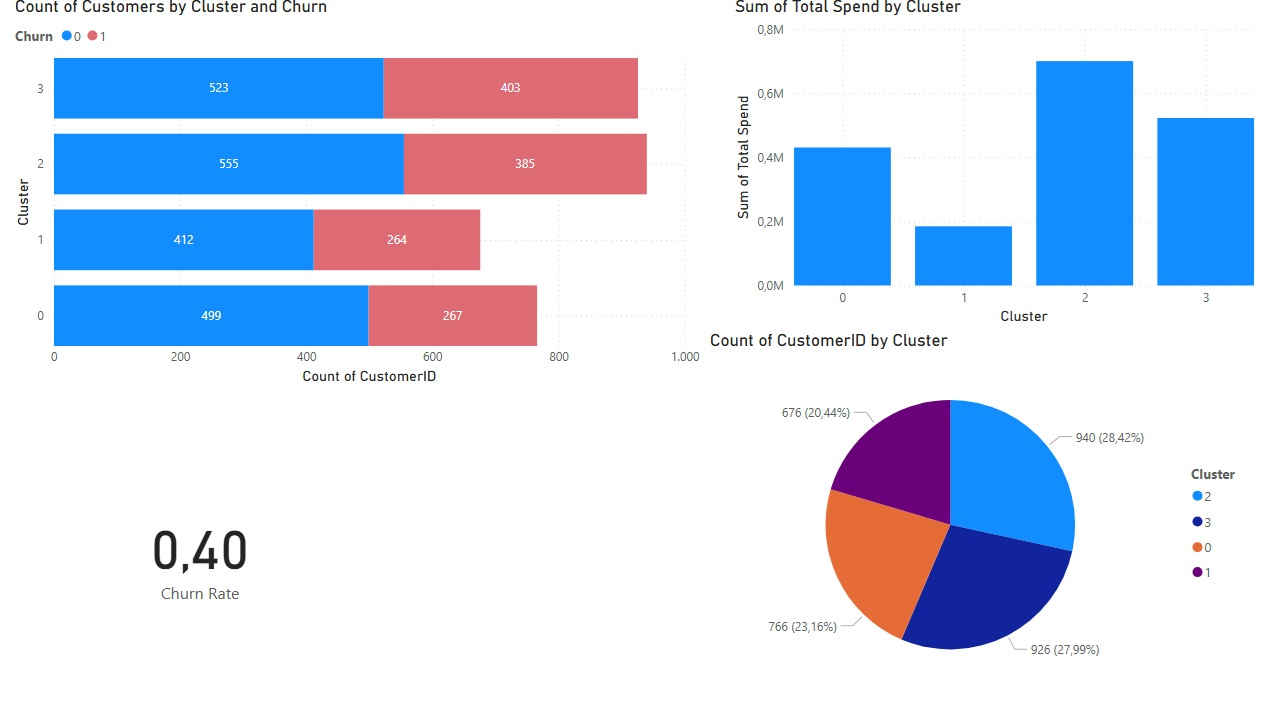

The dashboard page shown, as its layout file describes it:
{"tool":"powerbi","page":{"name":"Page 1","canvas":[1280,720],"ordinal":0},"visuals":[{"type":"barChart","title":"Count of Customers by Cluster and Churn","fields":{"Series":["Sheet1.Churn"],"Category":["Sheet1.Cluster"],"Y":["CountNonNull(Sheet1.CustomerID)"]},"box":[9.6,0,691.6,391.1],"z":0},{"type":"card","fields":{"Values":["Sheet1.Churn Rate"]},"box":[9.6,391.1,378.7,329.3],"z":1000},{"type":"clusteredColumnChart","fields":{"Y":["Sum(Sheet1.Total Spend)"],"Category":["Sheet1.Cluster"]},"box":[725.9,0,526.9,332.1],"z":2000},{"type":"pieChart","fields":{"Category":["Sheet1.Cluster"],"Y":["CountNonNull(Sheet1.CustomerID)"]},"box":[701.2,332.1,551.6,369.1],"z":3000}]}

Visuals, with their boxes in screenshot pixels (x1, y1, x2, y2), scaled from the page's 1280x720 canvas onto the 1284x718 screenshot:
"Count of Customers by Cluster and Churn" barChart: box=[10, 0, 703, 390]
card - Sheet1.Churn Rate: box=[10, 390, 390, 717]
clusteredColumnChart - Sum(Sheet1.Total Spend) x Sheet1.Cluster: box=[728, 0, 1257, 331]
pieChart - Sheet1.Cluster x CountNonNull(Sheet1.CustomerID): box=[703, 331, 1257, 699]
